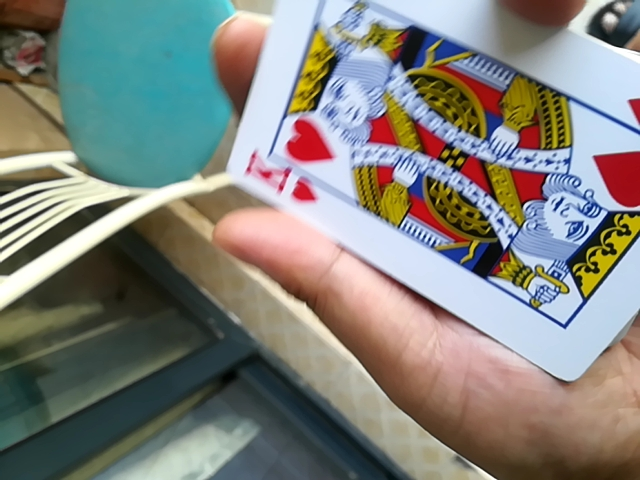hx k: (218, 6, 637, 367)
